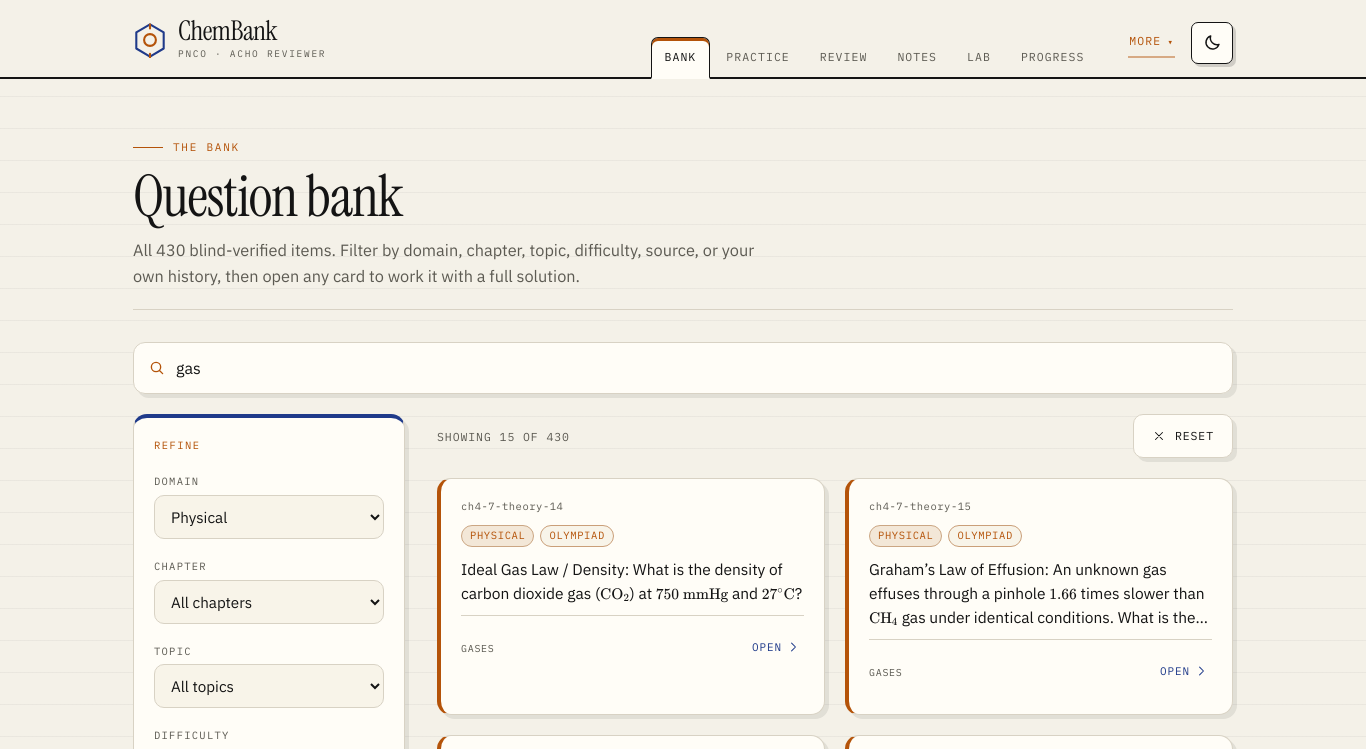
Scenario: reset clears every filter and the URL
The image size is (1366, 749).
Expected: the dropdown labelled "Domain" shows "Physical", [154,495,384,539]
Expected: the search field named "search questions" holds "gas", [176,344,1218,392]
What coordinates should you click on to do the following:
click the button "Reset"
I would click on:
 (1183, 436)
Its box is [1133,414,1233,458].
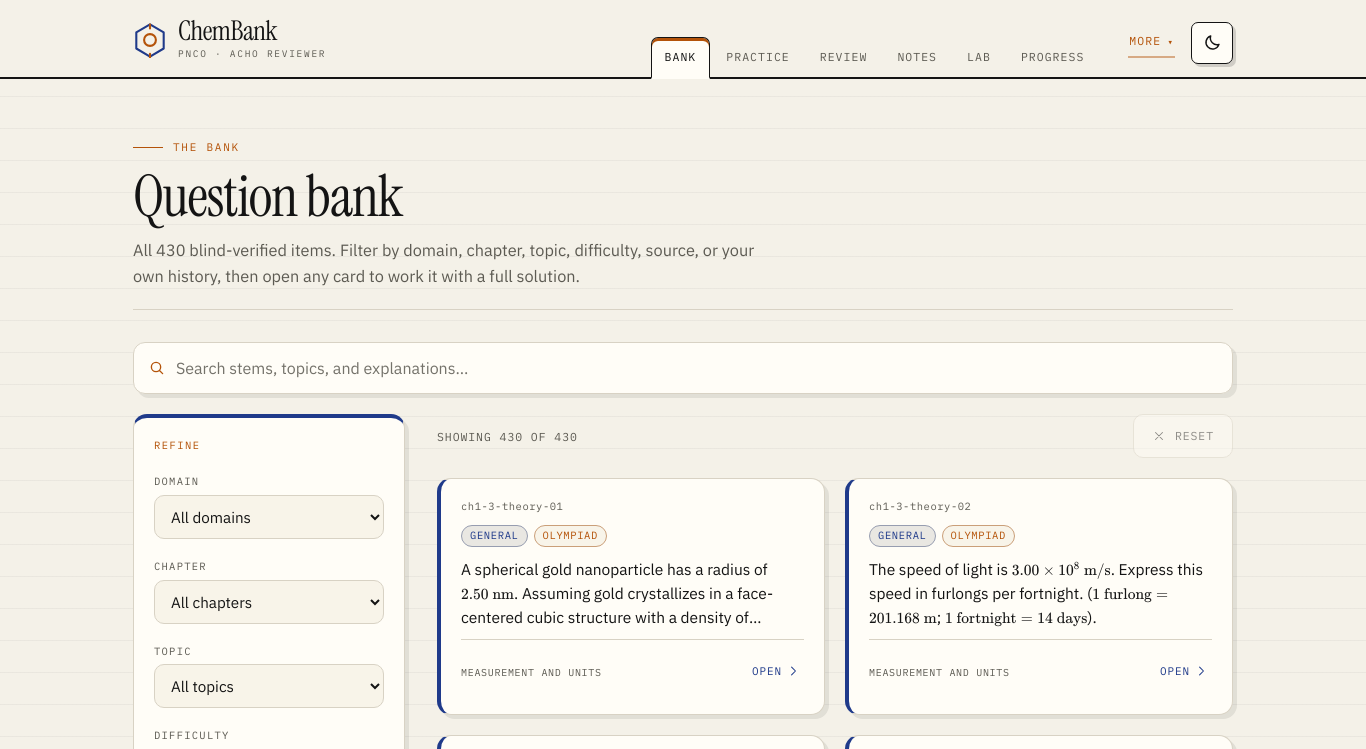
Result: the dropdown labelled "Domain" shows "All domains" at [154,495,384,539]
Result: the search field named "search questions" is empty at [176,344,1218,392]
